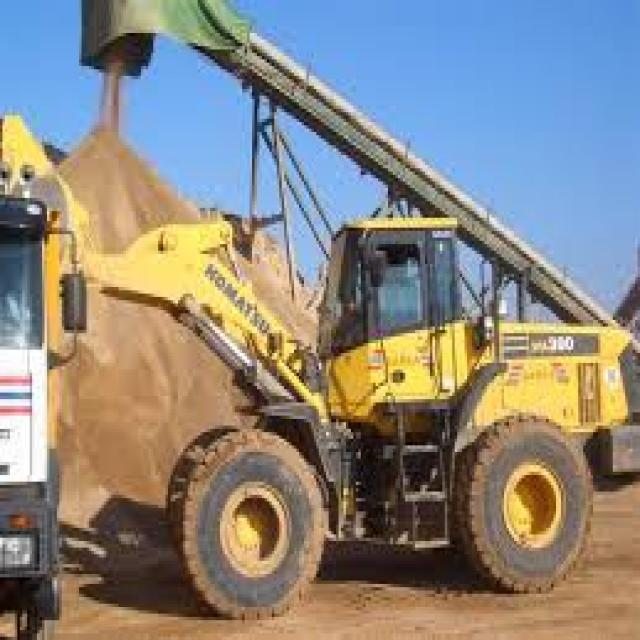buldozerpayloadergrader: (85, 202, 629, 620)
